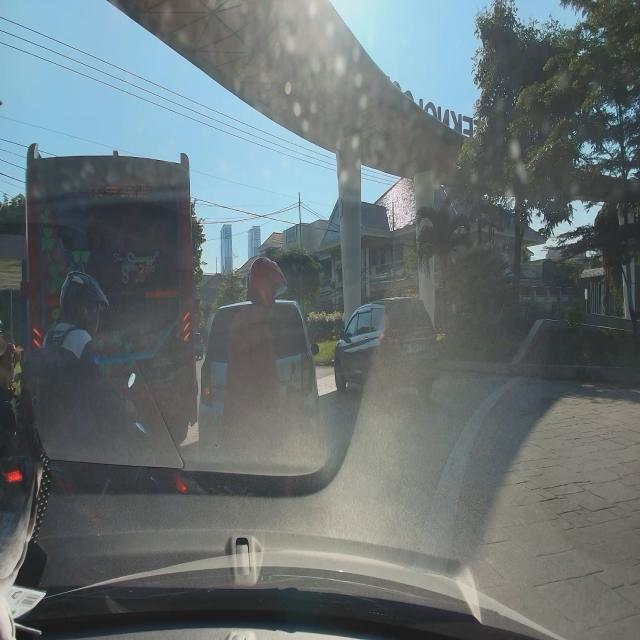bus: (20, 134, 198, 444)
car: (199, 295, 324, 484), (332, 292, 442, 407)
license-plate: (406, 339, 424, 353)
